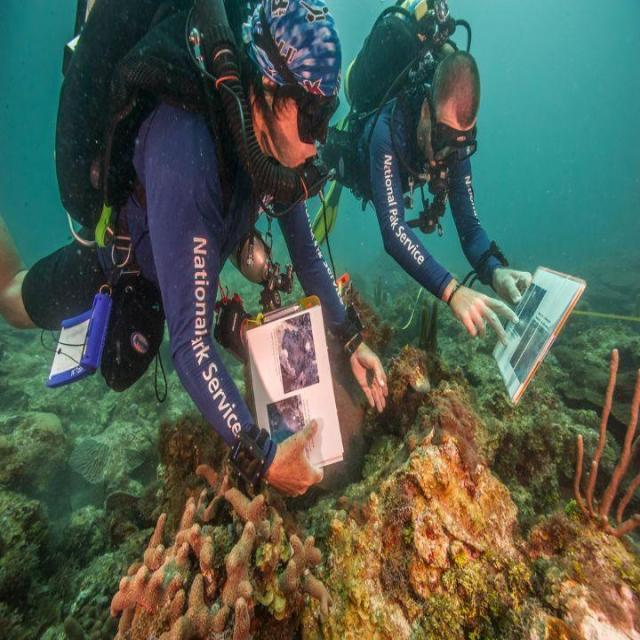Dead Coral: (115, 507, 312, 640)
